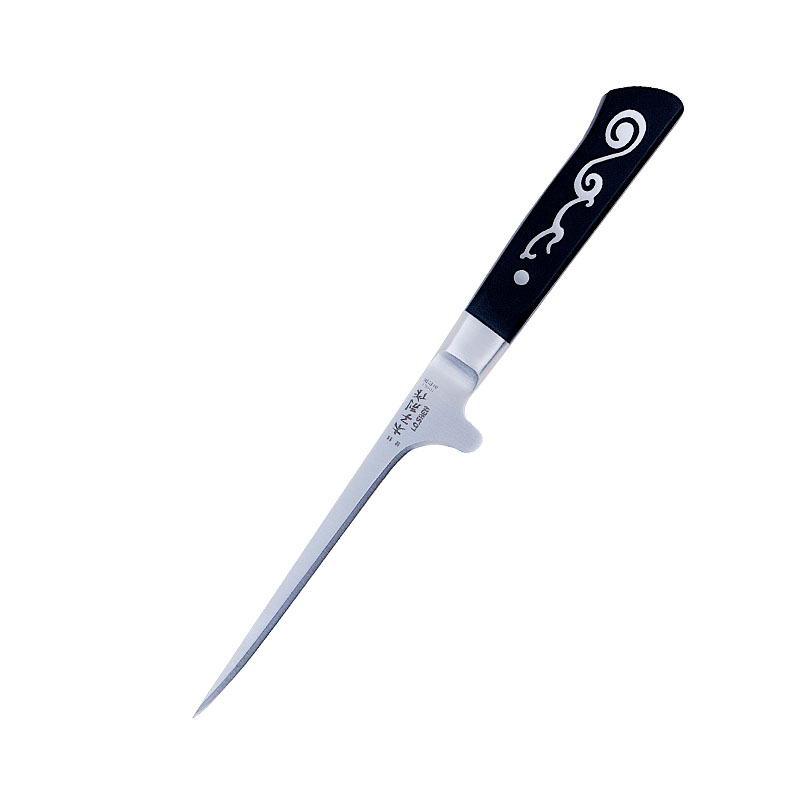knife: (133, 65, 703, 727)
